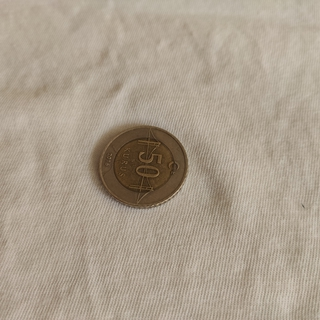50KURUS: (96, 124, 190, 210)
